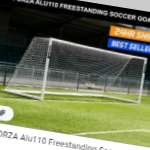goals: (3, 36, 147, 104)
